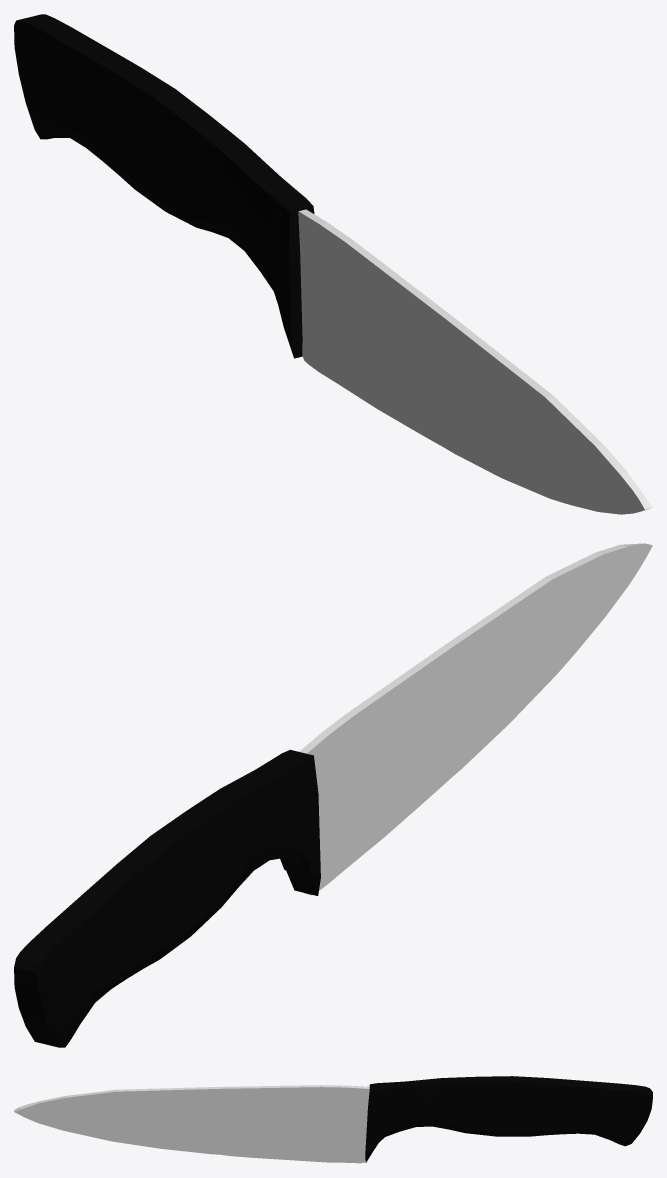
The model's file is knife.glb.
3 renders of one model, top to bottom at view 1: azimuth 30°, elevation 25°; view 2: azimuth 150°, elevation 25°; view 3: azimuth 270°, elevation 25°, orthographic. The views are drawn at different scales.
Parts seen in each view (by area): view 1: Cube, Cube.001; view 2: Cube, Cube.001; view 3: Cube, Cube.001.
Boxes of the visible parts, x1,y1,x2,y2 form: Cube: (298, 209, 652, 514); Cube.001: (14, 14, 314, 358); Cube: (299, 543, 652, 895); Cube.001: (14, 749, 320, 1047); Cube: (14, 1085, 369, 1163); Cube.001: (365, 1076, 652, 1162).
Size of the model in its own units: 0.1604 by 0.8613 by 5.98.
2 materials, 1 textured.
